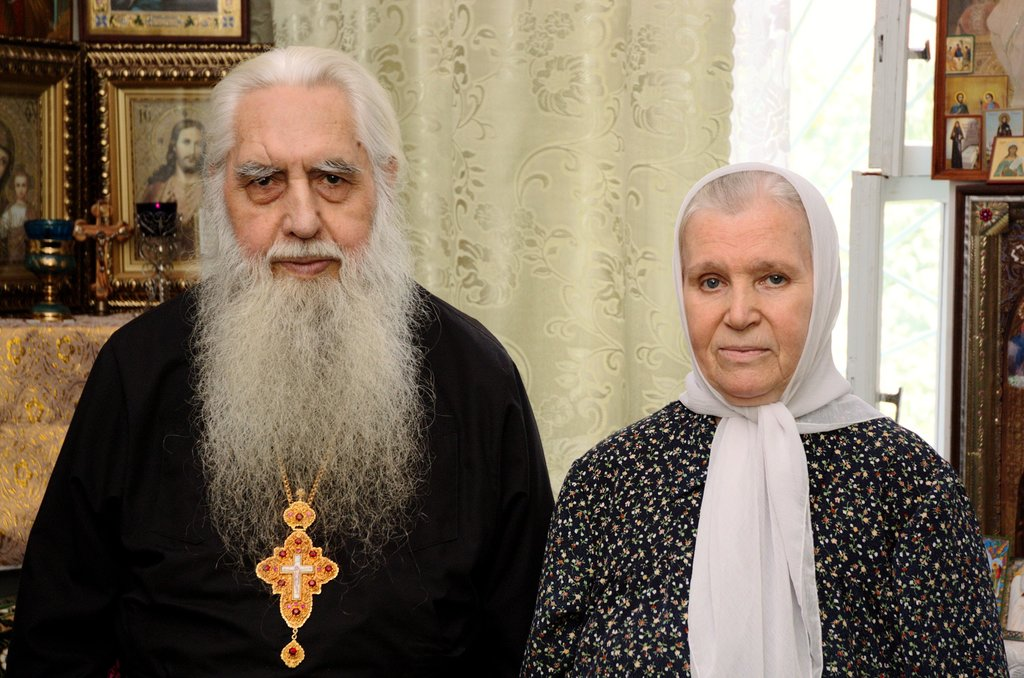Person: (9, 38, 560, 675), (515, 159, 1011, 678)
